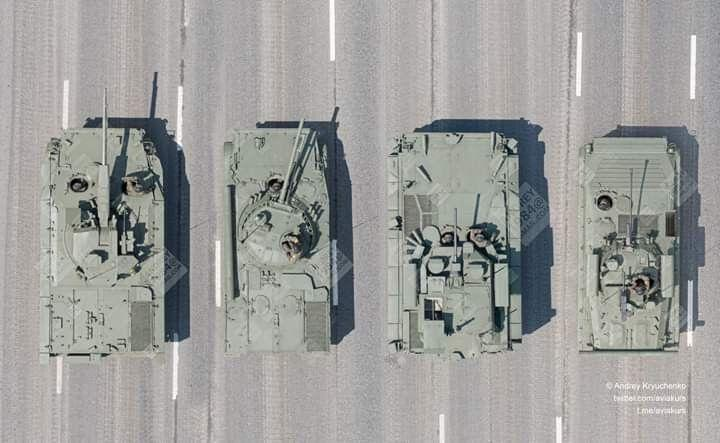armored_car: (384, 125, 526, 362), (573, 130, 694, 362)
tank: (35, 81, 172, 365), (219, 114, 336, 359)
